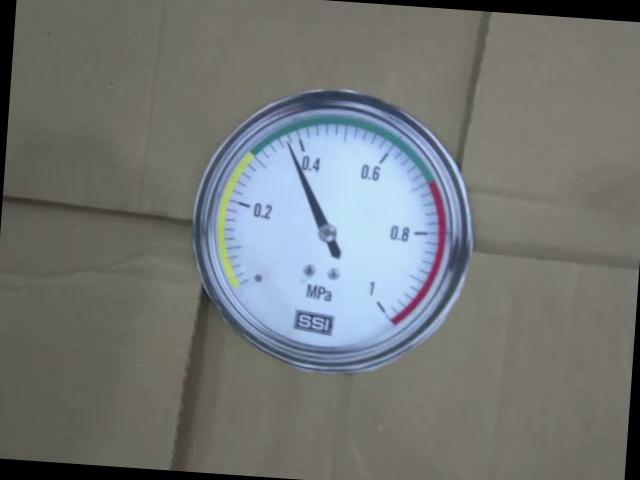Dashboard: (182, 80, 481, 382)
ssi: (290, 306, 336, 334)
